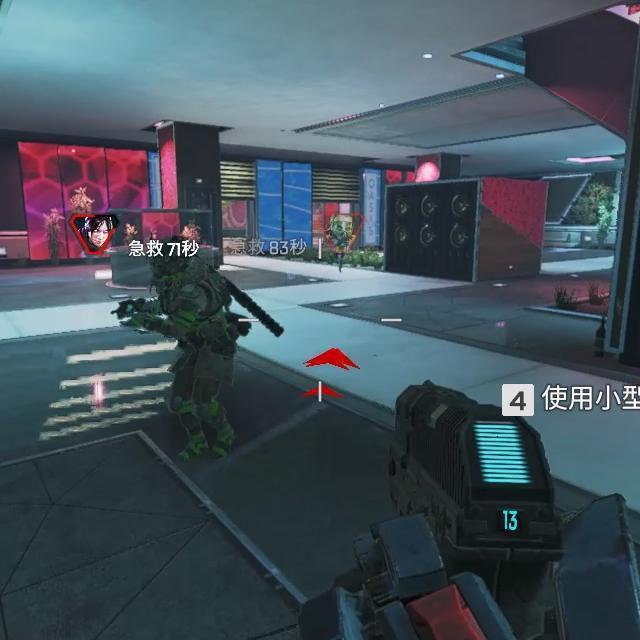avatar: (147, 257, 238, 464)
